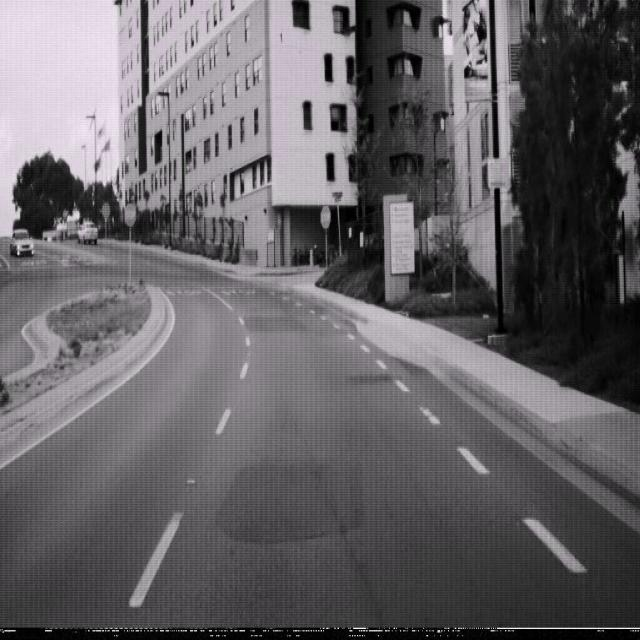stop: (123, 201, 136, 228), (320, 204, 331, 229)
